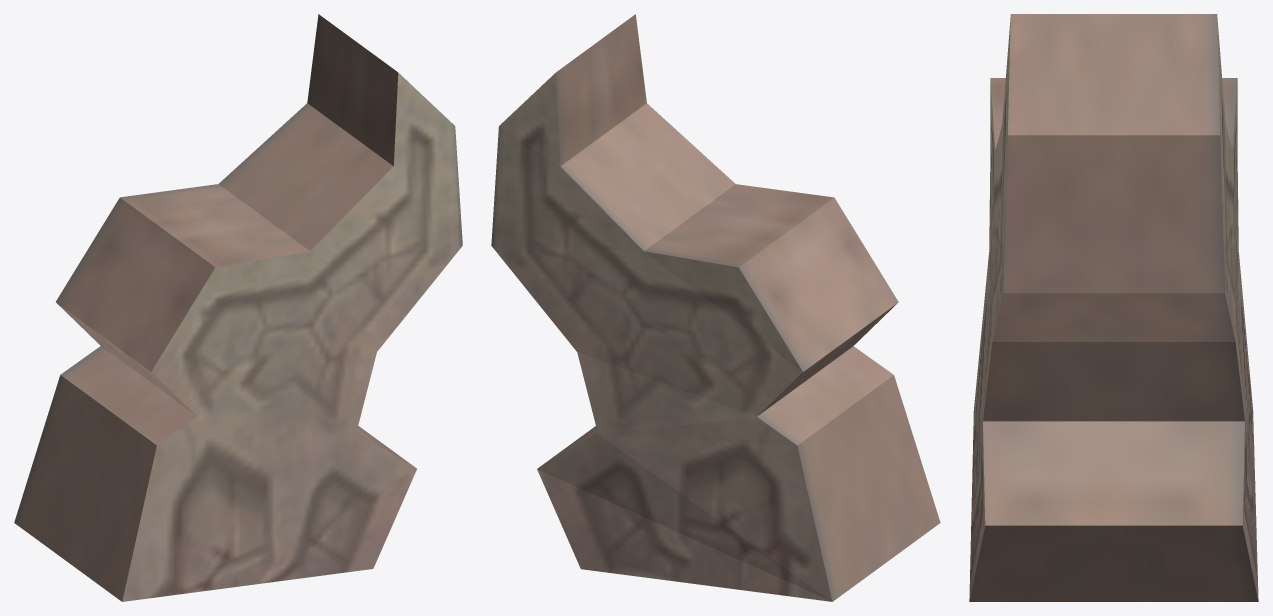
Rendered from yangchunbaixue_06.FBX.
The picture shows the model from 3 angles, left to right: view 1: azimuth 30°, elevation 25°; view 2: azimuth 150°, elevation 25°; view 3: azimuth 270°, elevation 25°; orthographic projection. The views are drawn at different scales.
Visible parts, largest first — view 1: Object08; view 2: Object08; view 3: Object08.
Part boxes in pixels (x1=…): Object08: x1=14, y1=14, x2=462, y2=601; Object08: x1=491, y1=14, x2=940, y2=601; Object08: x1=969, y1=14, x2=1258, y2=601.
Bounding box in the file's own units: 3.24 × 4.18 × 1.78.
